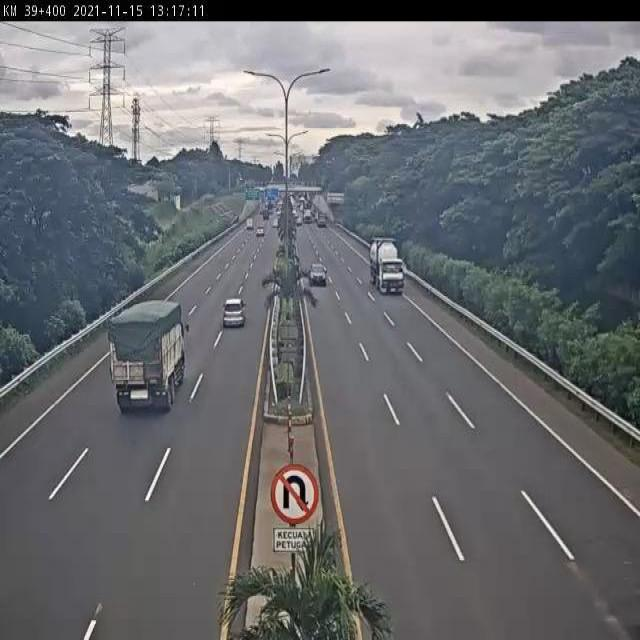car: (223, 294, 247, 330), (306, 261, 328, 288)
truck-l-: (111, 299, 189, 413)
truck-xl-: (368, 235, 406, 296)
